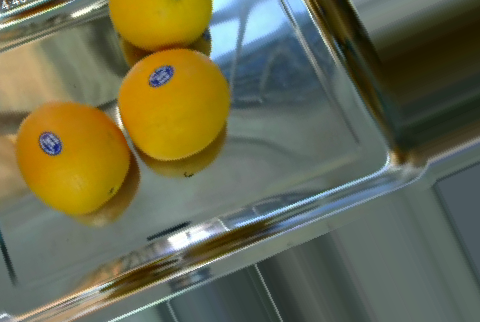Orange: (13, 98, 130, 216), (117, 45, 231, 162)
